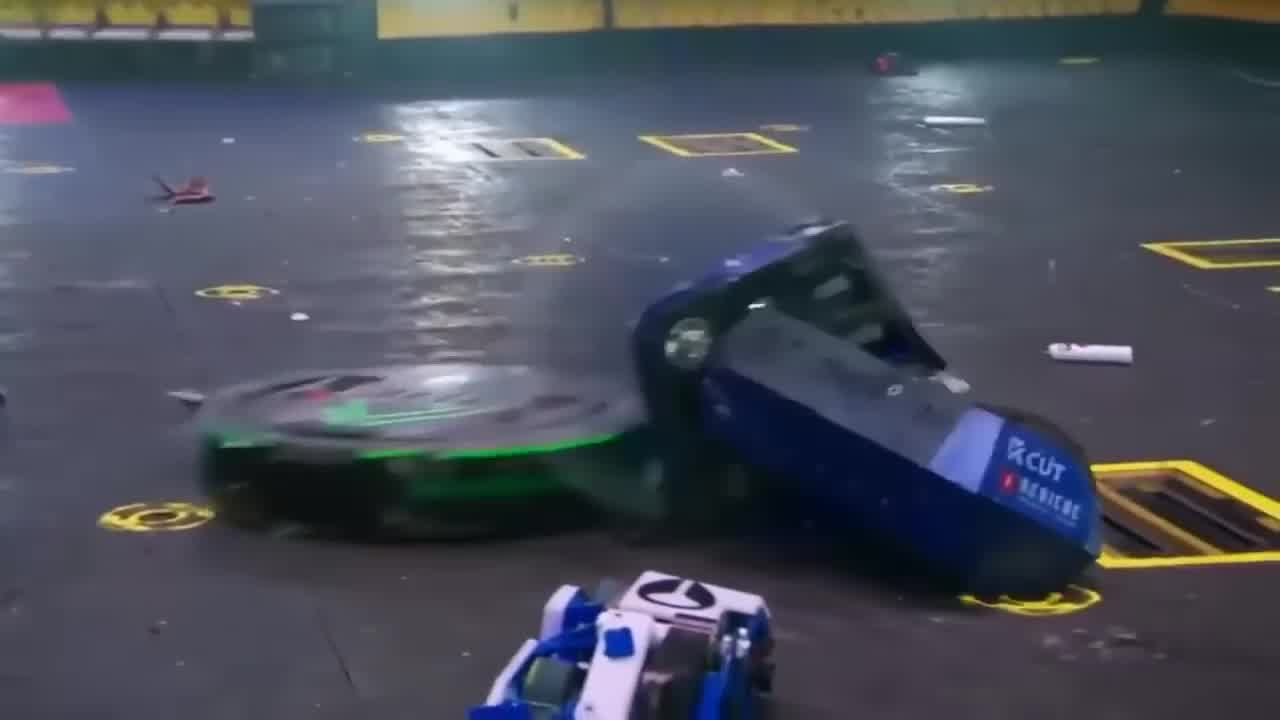combatbot: (639, 217, 1117, 619), (165, 352, 646, 547), (477, 571, 776, 719)
debris: (148, 170, 220, 213), (868, 52, 921, 79)
